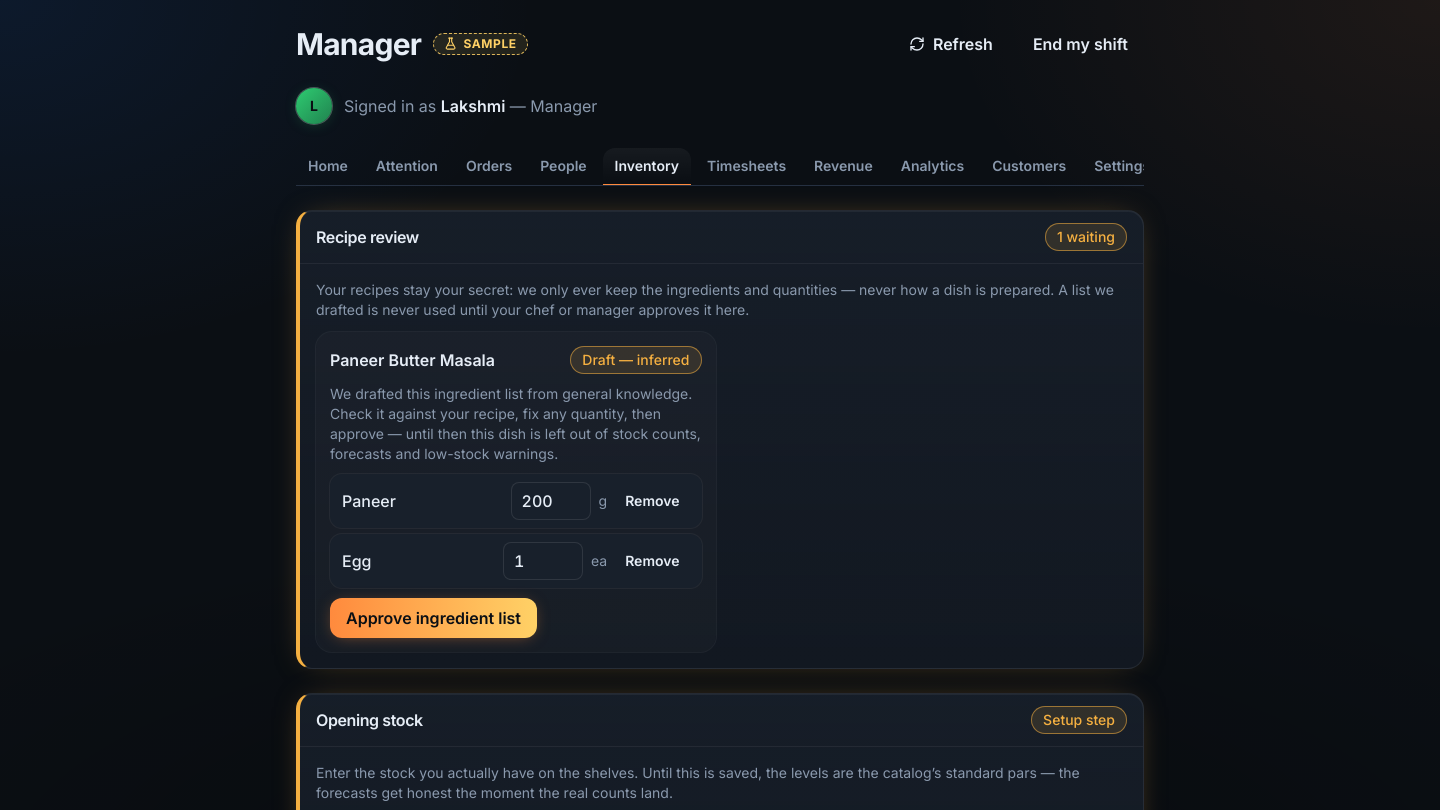
it: recipe_review_edits_then_approves_a_draft
The image size is (1440, 810).
Expected: the text "Paneer Butter Masala" is shown, [330, 348, 495, 372]
Expected: the text "Draft — inferred" is shown, [570, 346, 702, 374]
# the reviewer corrects the paneer quantity, then approves: the edits ride the approve call
Replace the text in the number field named "Quantity of Paneer in Paneer Butter Masala" with "250" at x=551, y=501, box [511, 482, 591, 520]
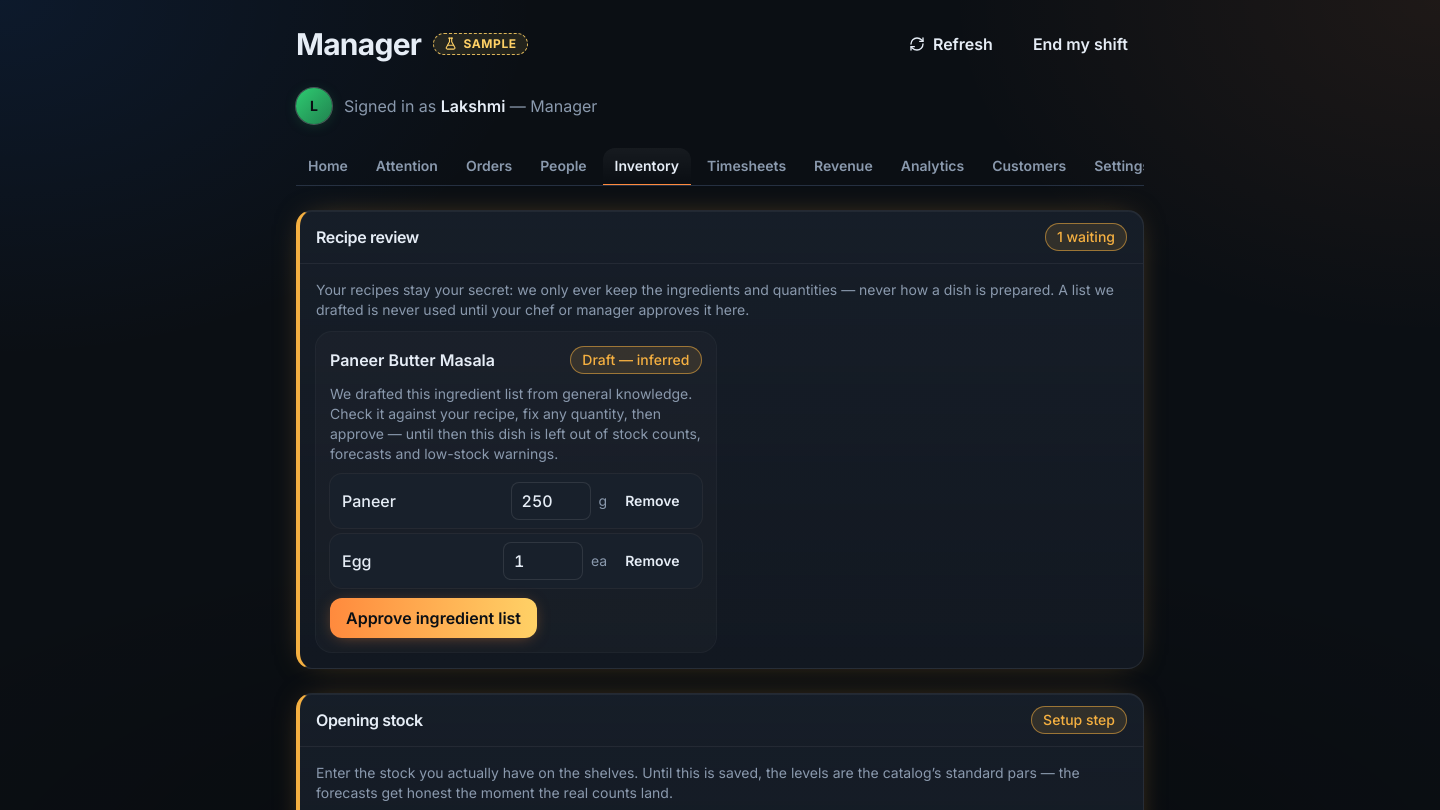
Click the button "Approve ingredient list" at x=434, y=618, box [330, 598, 537, 638]
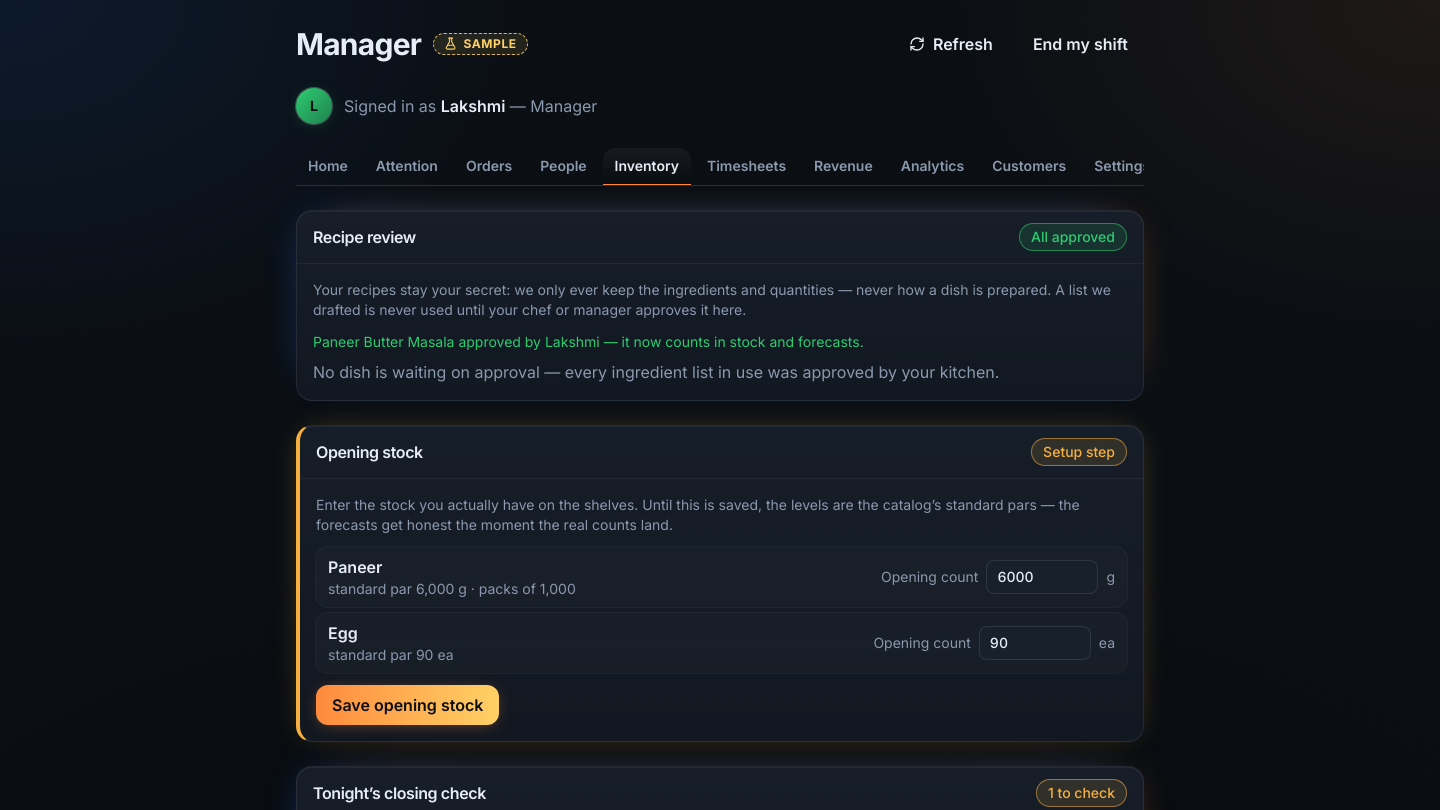
Expected: the text "Paneer Butter Masala approved by Lakshmi" is shown, [313, 333, 864, 350]
Expected: the text "All approved" is shown, [1019, 223, 1127, 251]
